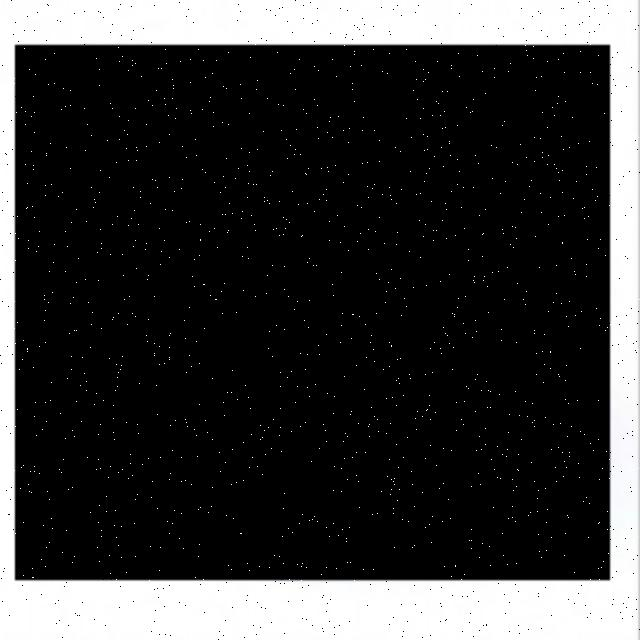Pumpkin: (16, 46, 611, 581)
